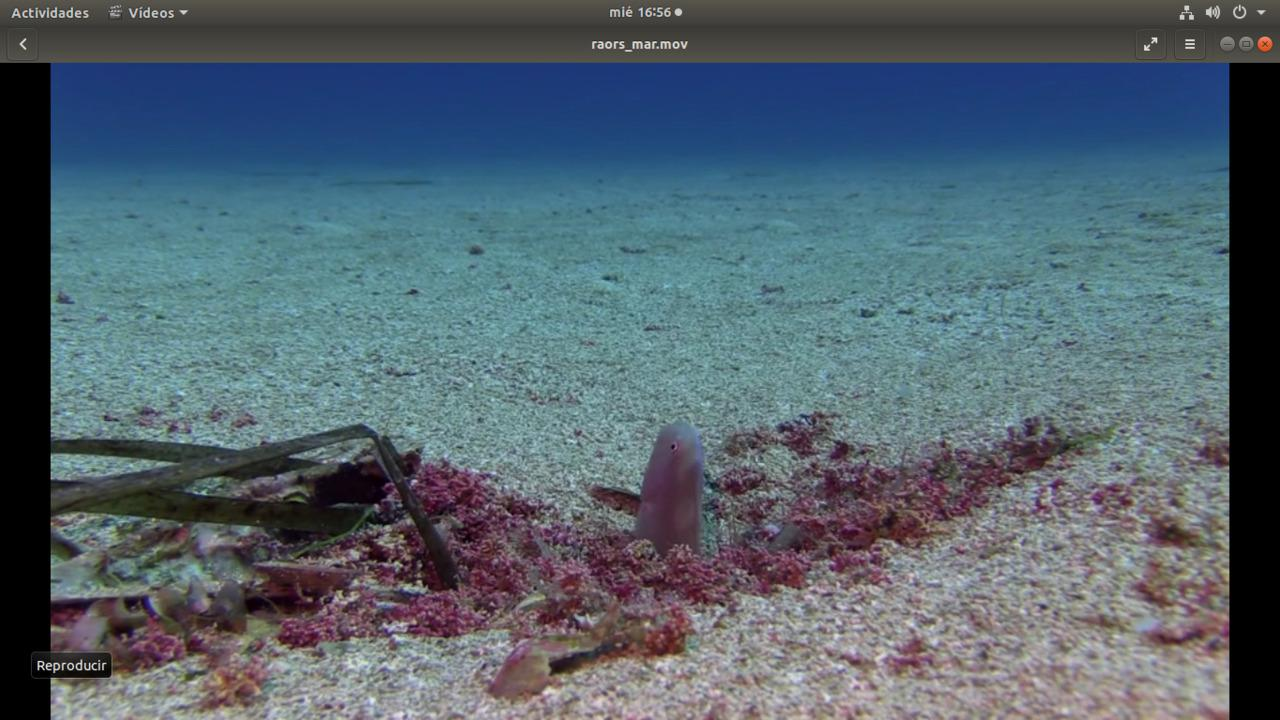raor: (629, 414, 721, 571)
